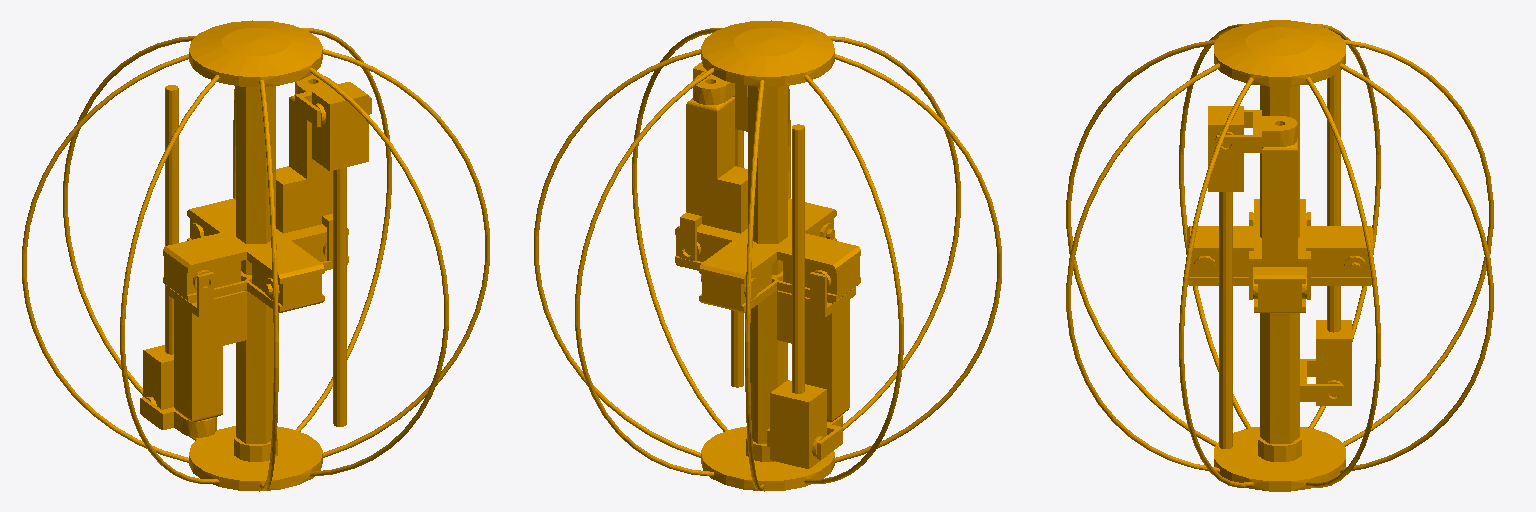
robot.urdf — body_v1:
<?xml version="1.0" encoding="utf-8"?>
<robot name="body_v1">
	<link name="body:1">
		<inertial>
			<mass value="0.3652864079430611"/>
			<origin rpy="0 0 0" xyz="-0.00017572242614011097 -9.739210115690606e-05 0.1854214332247067"/>
			<inertia ixx="0.002538259715486214" ixy="7.594190529510899e-09" ixz="-3.2705754500244184e-07" iyy="0.002538041356676756" iyz="-7.927567449659417e-08" izz="0.000905322245372182"/>
		</inertial>
		<collision name="body:1_collision">
			<origin rpy="0.0 -0.0 0.0" xyz="0.0 0.0 0.0"/>
			<geometry>
				<mesh filename="package://qross2/meshes/body.stl" scale="1.0 1.0 1.0"/>
			</geometry>
		</collision>
		<visual name="body:1_visual">
			<origin rpy="0.0 -0.0 0.0" xyz="0.0 0.0 0.0"/>
			<geometry>
				<mesh filename="package://qross2/meshes/body.stl" scale="1.0 1.0 1.0"/>
			</geometry>
		</visual>
	</link>
</robot>

--- Facts derived from the render (not from the file) ---
The picture shows the robot from 3 angles, left to right: view 1: azimuth 30°, elevation 25°; view 2: azimuth 150°, elevation 25°; view 3: azimuth 270°, elevation 25°; orthographic projection.
Robot: body_v1 — 1 links, 0 joints (none); root link body:1; default pose: all joints at 0.
Links seen in each view (by area): view 1: body:1; view 2: body:1; view 3: body:1.
Boxes of the visible links, x1,y1,x2,y2 form: body:1: [22, 20, 489, 491]; body:1: [534, 20, 1001, 491]; body:1: [1066, 20, 1493, 491].
Bounding box of the posed robot: 0.1905 × 0.1905 × 0.213 m (x, y, z).
Meshes: 1 distinct files referenced, 1 mesh visuals loaded (1 binary STL).
